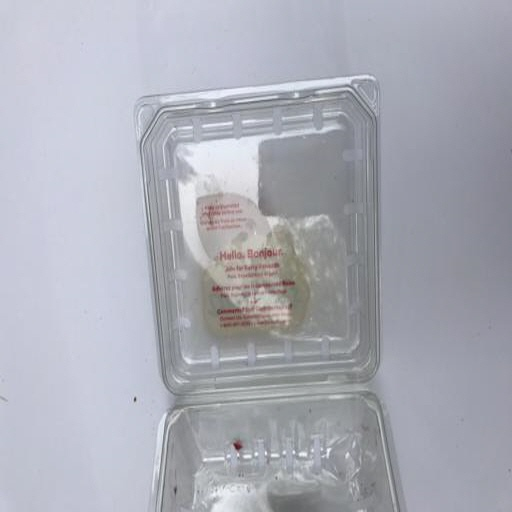Plastic_4: (130, 75, 408, 512)
